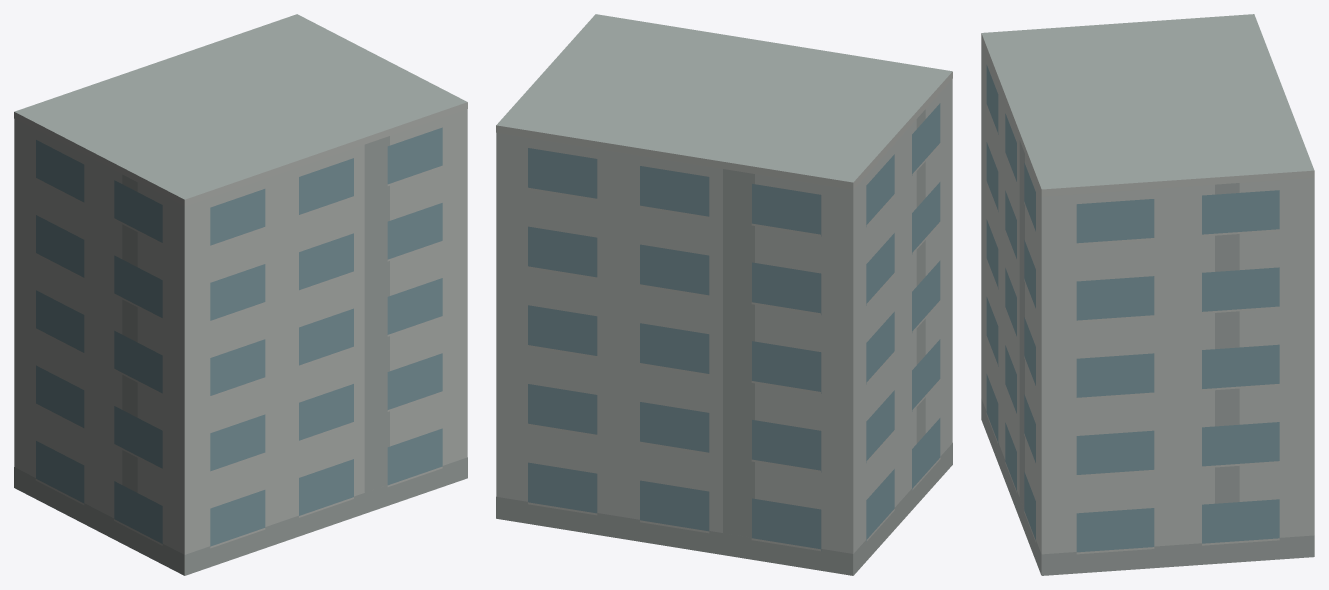
File: survey-upis-32532917.glb
3 renders of one model, left to right at view 1: azimuth 30°, elevation 25°; view 2: azimuth 150°, elevation 25°; view 3: azimuth 270°, elevation 25°, orthographic. The views are drawn at different scales.
Parts seen in each view (by area): view 1: survey-upis-32532917.tmp; view 2: survey-upis-32532917.tmp; view 3: survey-upis-32532917.tmp.
Part boxes in pixels (x1,y1,x2,y2): survey-upis-32532917.tmp: (14,14,467,575); survey-upis-32532917.tmp: (496,14,952,575); survey-upis-32532917.tmp: (981,14,1314,575).
Bounding box in the file's own units: 12.86 × 13.2 × 10.33.
